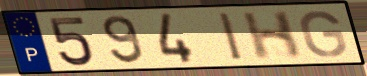4: (157, 11, 197, 66)
5: (45, 15, 96, 67)
9: (101, 14, 146, 65)
G: (297, 9, 349, 59)
H: (240, 9, 305, 62)
I: (216, 11, 247, 63)
